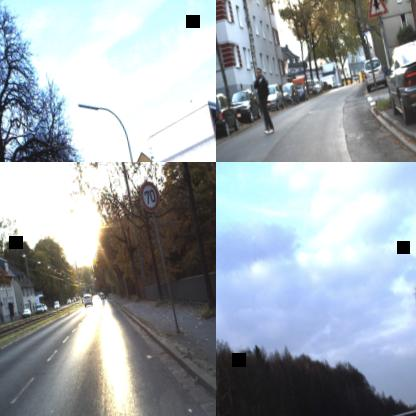priority at next intersection: (362, 0, 389, 18)
speed limit 70: (138, 178, 162, 213)
